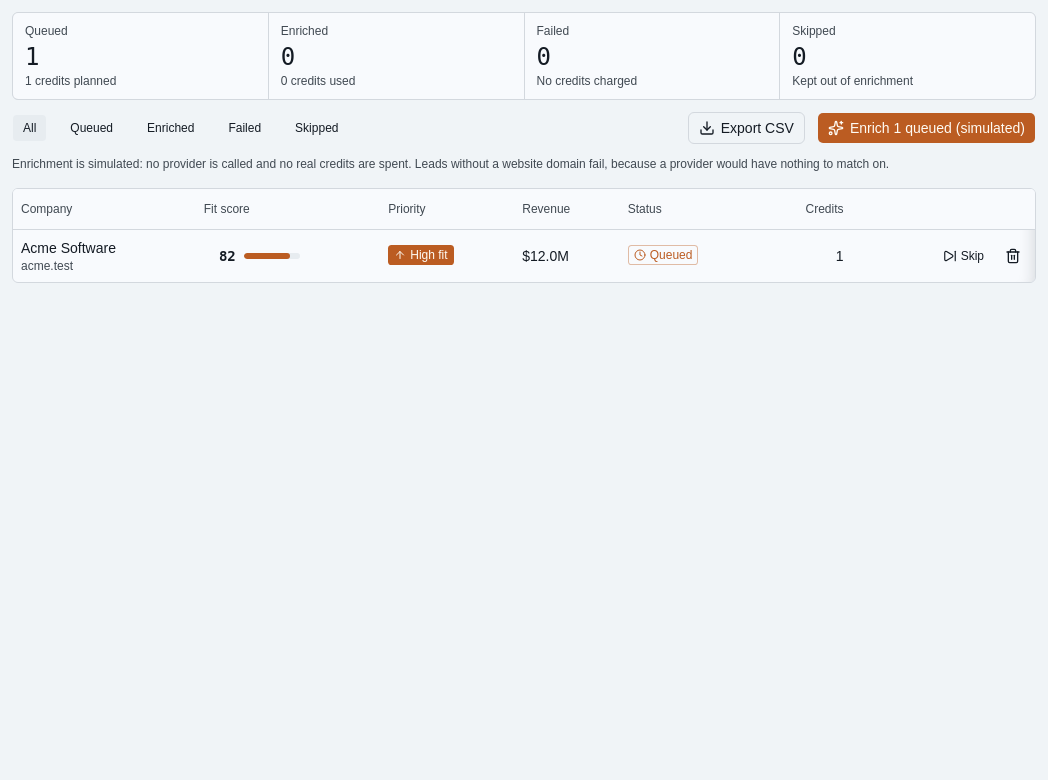
Test: QueueView › reports a failed enrichment without claiming success, then reloads the real state
The width and height of the screenshot is (1048, 780).
Click the button "Enrich 1 queued (simulated)" at (926, 128), box [817,112,1036,144]
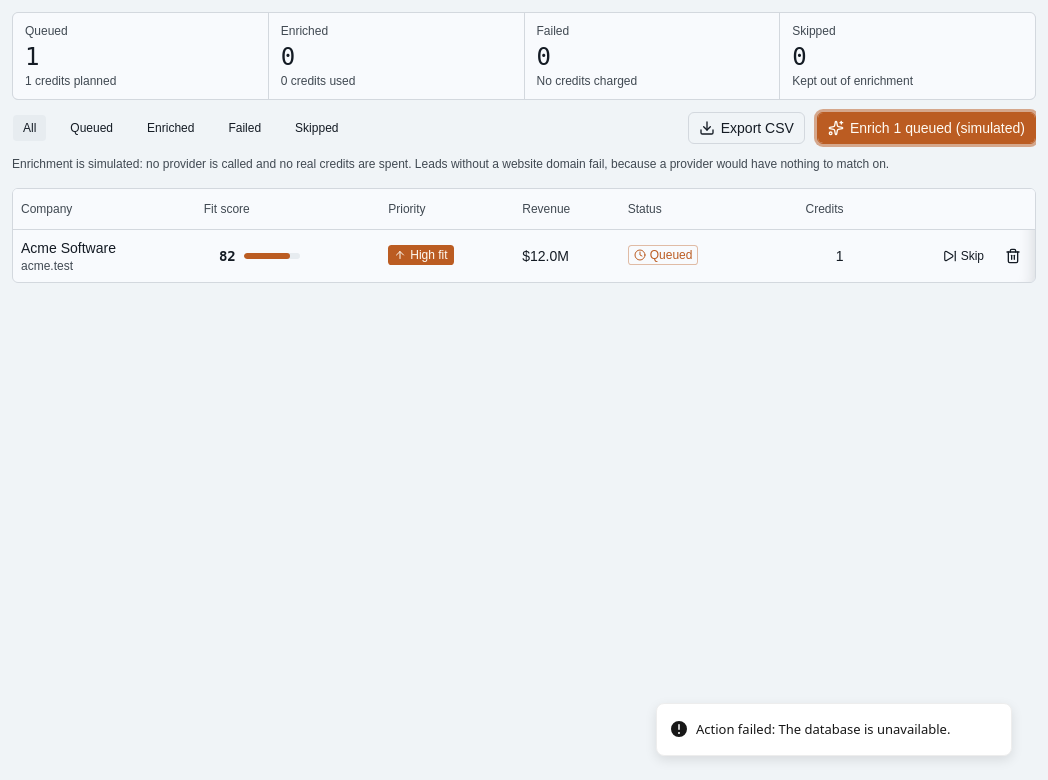
Expected: the text "Queued" is shown, [628,245,698,265]
Now the text "Action failed: The database is unavailable." is shown, box [696,720,950,739]
